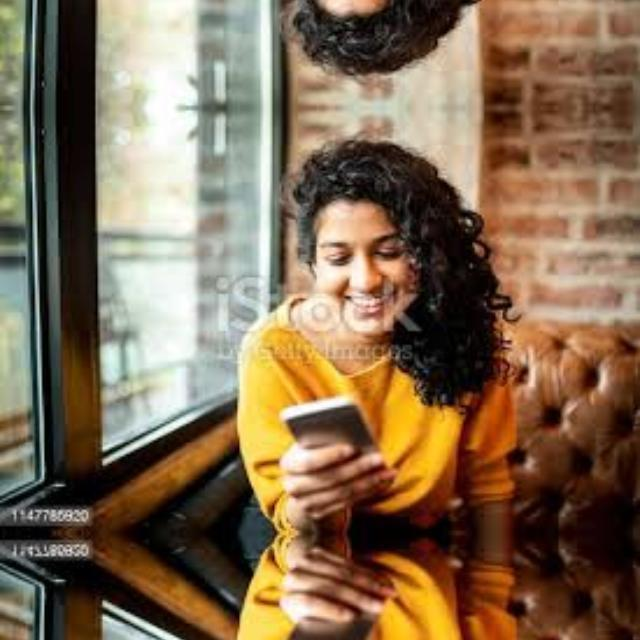person: (234, 141, 524, 533), (234, 533, 523, 640), (234, 0, 523, 73)
